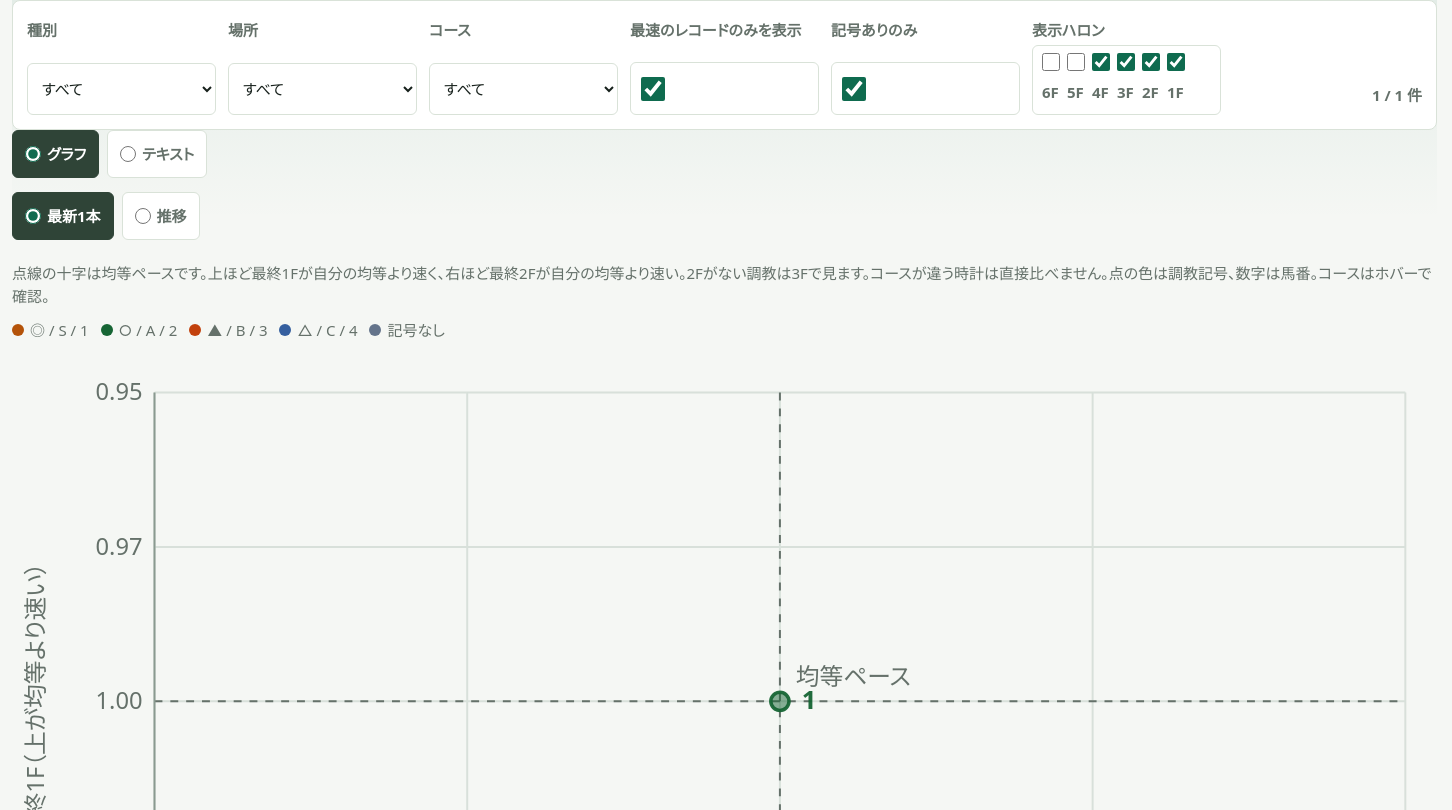
Test case: persists graph-on when グラフ is selected again
The width and height of the screenshot is (1452, 810).
Click the radio button labelled "テキスト": click(128, 154) [120,146,136,162]
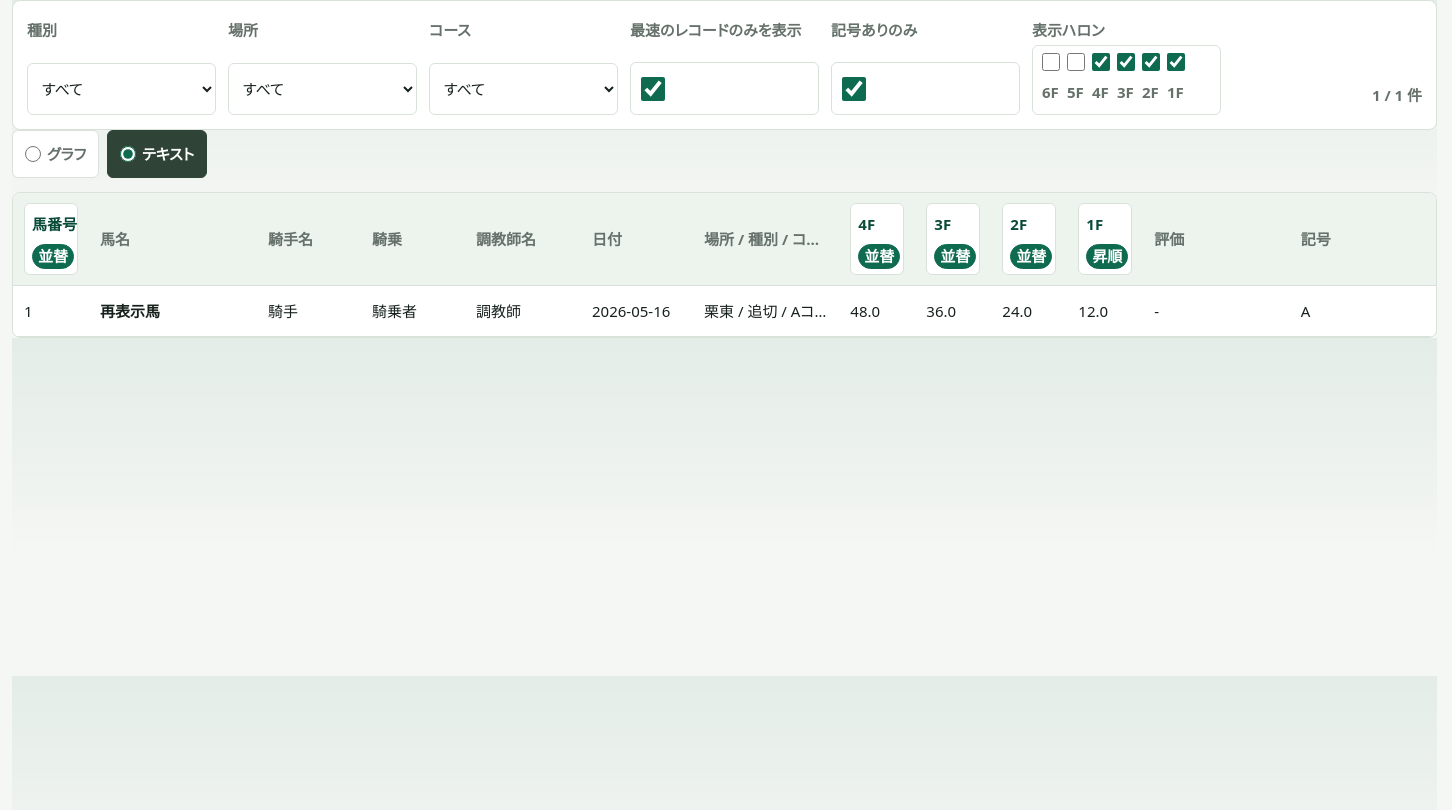
Click the radio button labelled "グラフ": click(33, 154) [25,146,41,162]
(page scrolled)
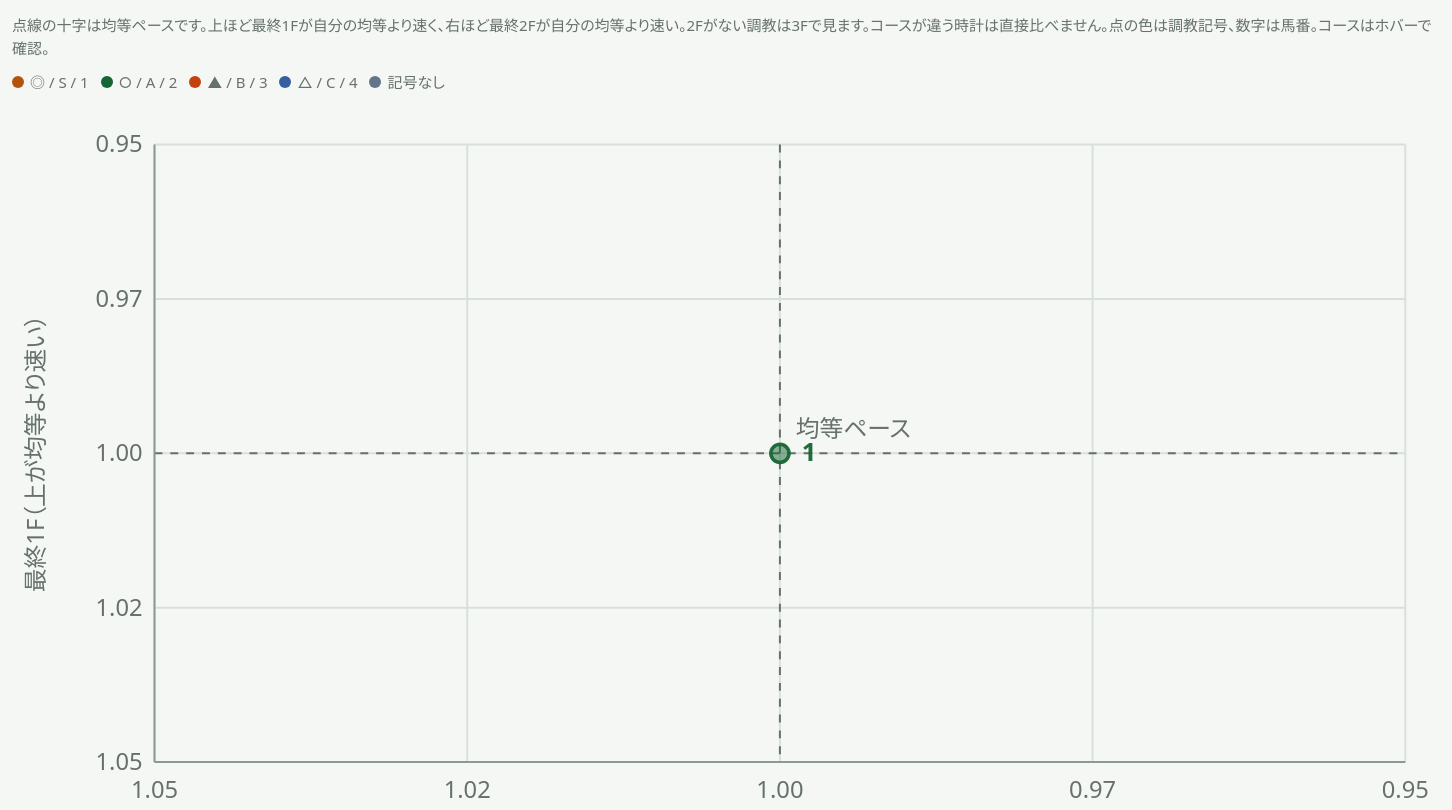
Now the column heading "馬名" is gone
